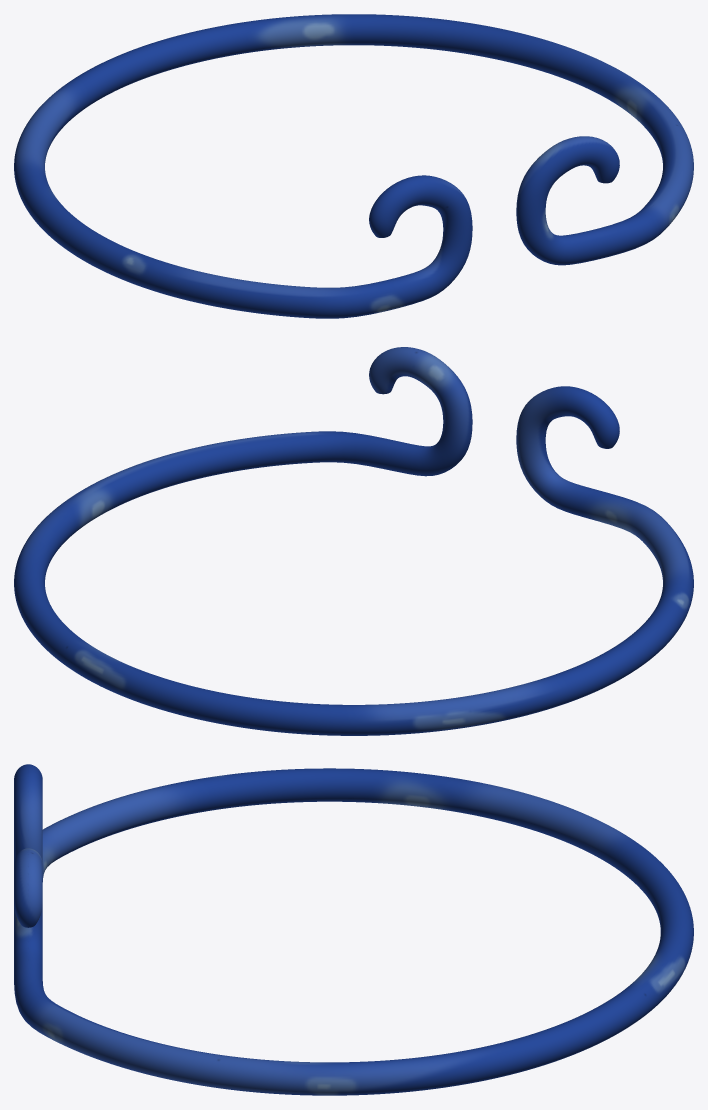
File: Naszyjnik lodu.fbx
3 renders of one model, top to bottom at view 1: azimuth 30°, elevation 25°; view 2: azimuth 150°, elevation 25°; view 3: azimuth 270°, elevation 25°, orthographic. The views are drawn at different scales.
Visible parts, largest first — view 1: Ring; view 2: Ring; view 3: Ring.
Part boxes in pixels (<box>): Ring: <box>14,14,693,318</box>; Ring: <box>14,347,693,735</box>; Ring: <box>14,764,693,1095</box>.
Size of the model in its own units: 418 by 85.15 by 390.
Materials: 1 (1 with a texture image).
